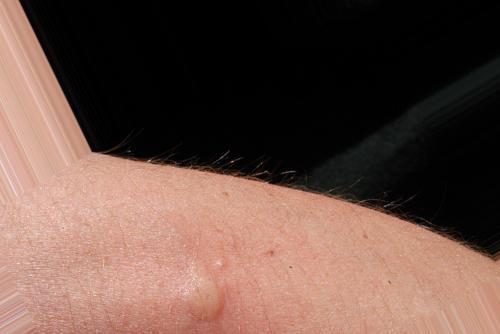Mosquito: (161, 262, 235, 329)
